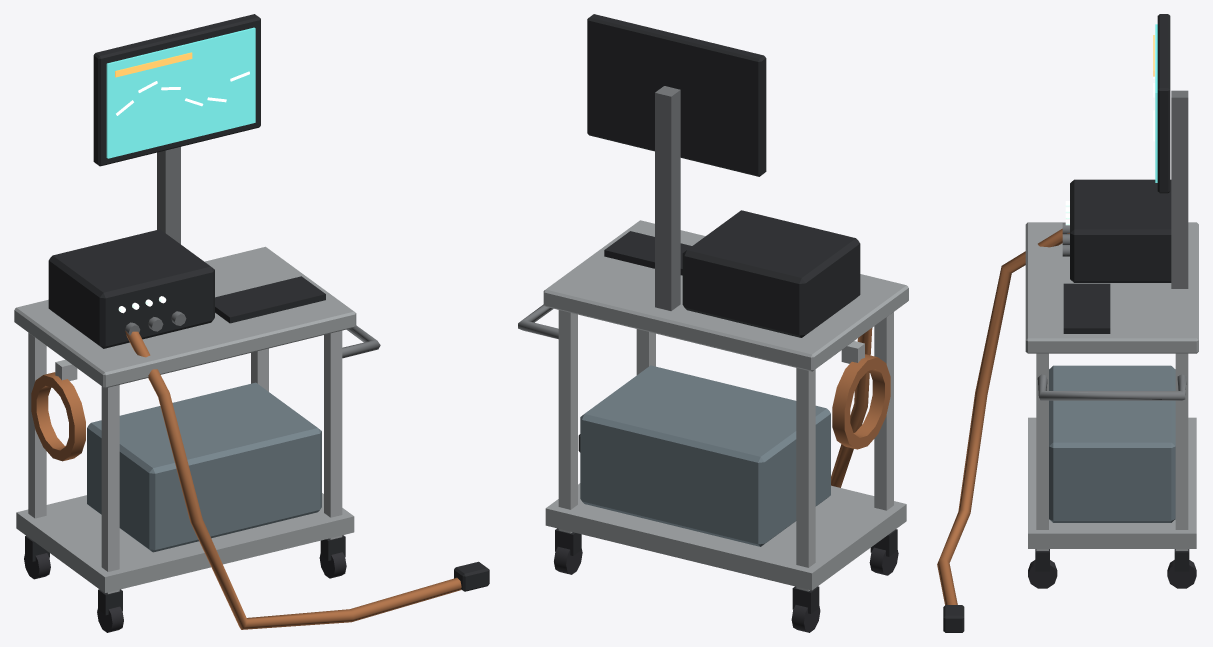
The model's file is astro_rover_diagnostic_cart.fbx.
3 views of the same model, side by side, from view 1: azimuth 30°, elevation 25°; view 2: azimuth 150°, elevation 25°; view 3: azimuth 270°, elevation 25° (orthographic). The views are drawn at different scales.
Visible parts, largest first — view 1: RoverDiagnosticCart_Body; view 2: RoverDiagnosticCart_Body; view 3: RoverDiagnosticCart_Body.
Boxes of the visible parts, x1,y1,x2,y2 form: RoverDiagnosticCart_Body: (14, 14, 489, 632); RoverDiagnosticCart_Body: (518, 14, 908, 632); RoverDiagnosticCart_Body: (937, 14, 1198, 632).
Bounding box in the file's own units: 182 × 257 × 124.
